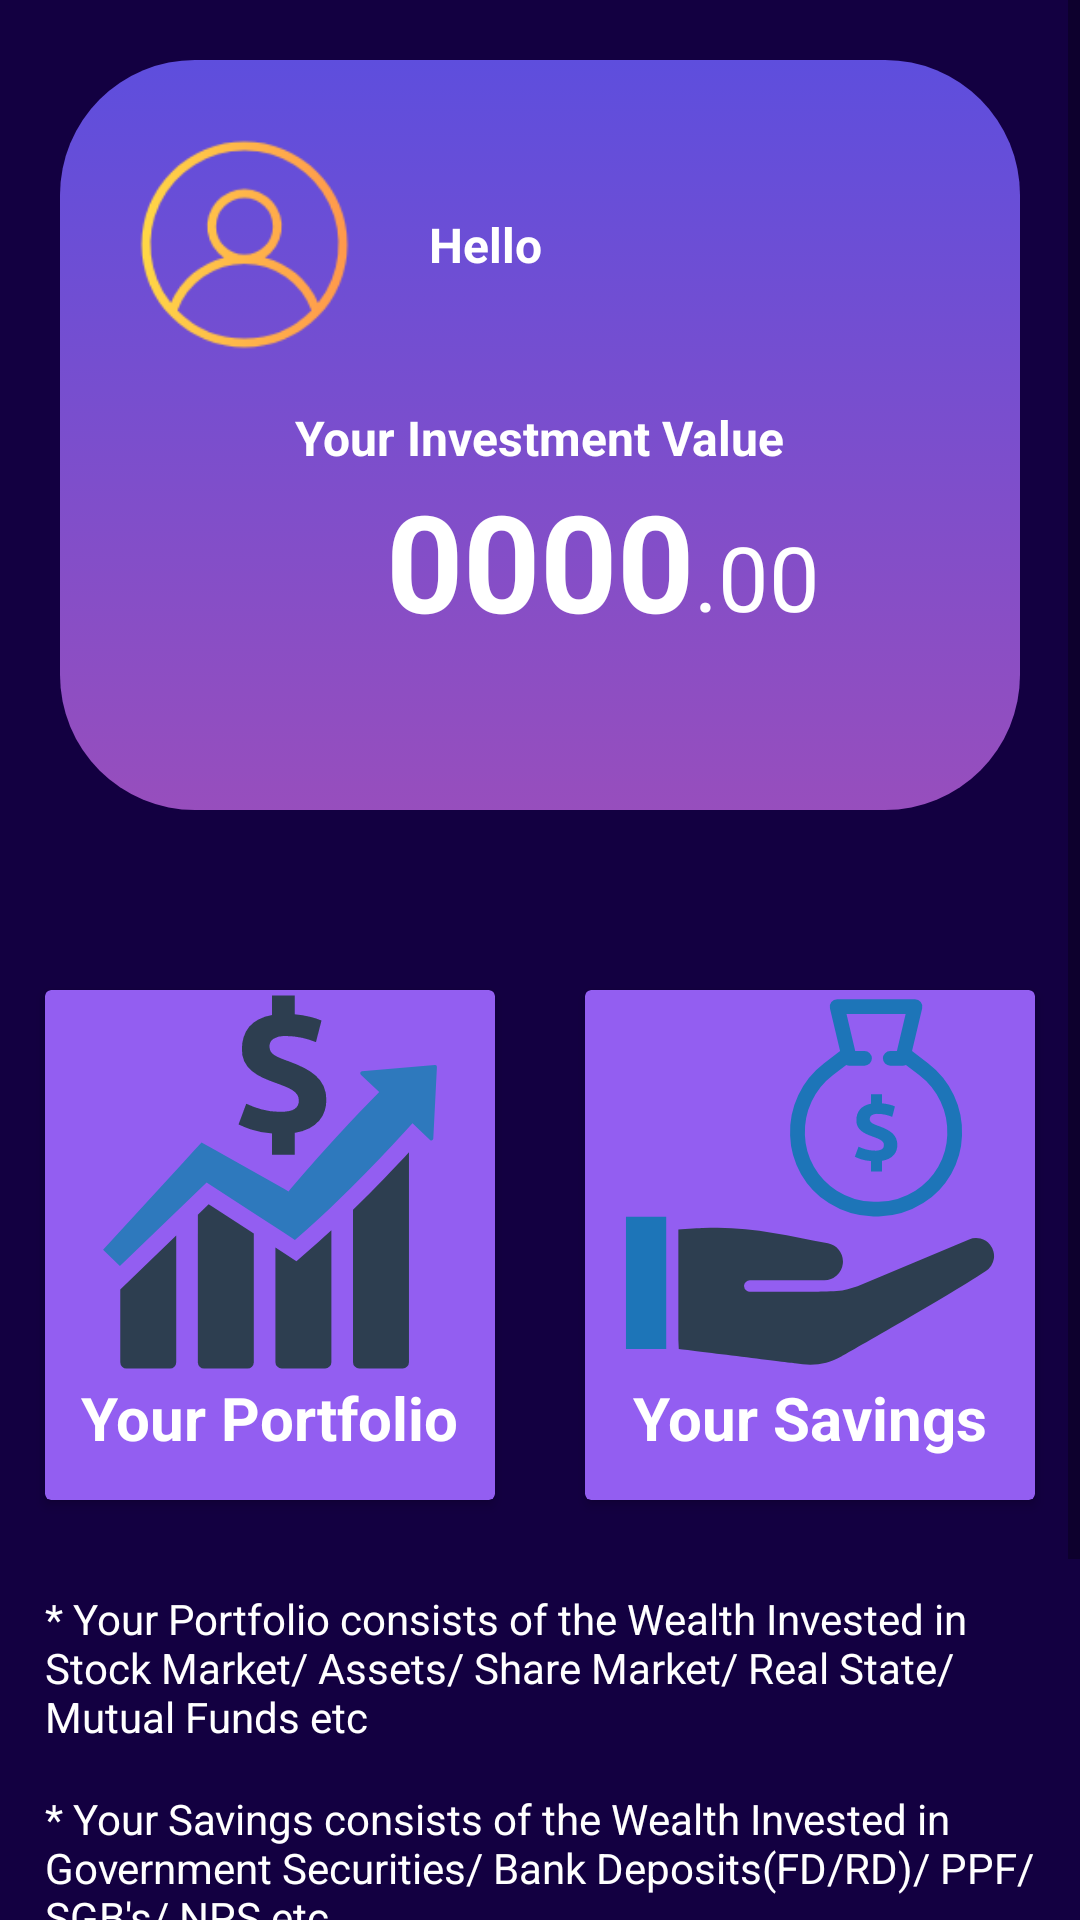

Screen size 1080*1920. Icon name, then its box in pixels as {"x1": x1, "y1": y1, "x2": x2, "y2": y2}:
profilen: {"x1": 141, "y1": 141, "x2": 348, "y2": 348}
